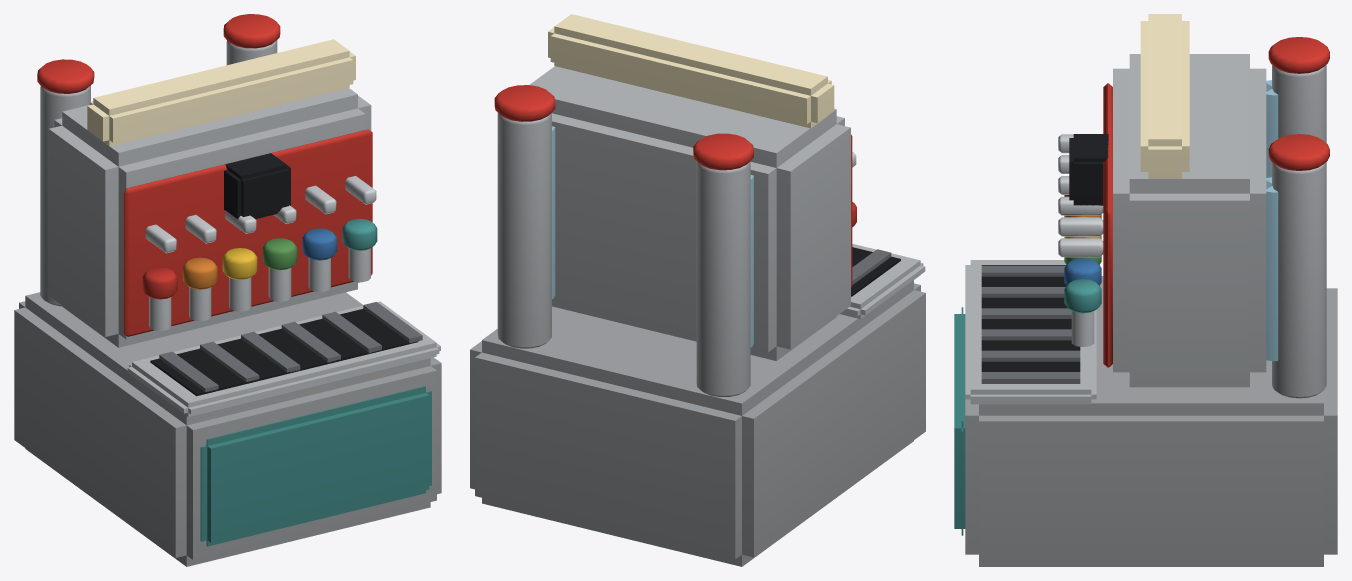
Rendered from SM_SodaFountain_01.glb.
3 renders of one model, left to right at view 1: azimuth 30°, elevation 25°; view 2: azimuth 150°, elevation 25°; view 3: azimuth 270°, elevation 25°, orthographic. The views are drawn at different scales.
Visible parts, largest first — view 1: SM_SodaFountain_01; view 2: SM_SodaFountain_01; view 3: SM_SodaFountain_01.
Boxes of the visible parts, x1,y1,x2,y2 form: SM_SodaFountain_01: (14,14,441,566); SM_SodaFountain_01: (470,14,925,566); SM_SodaFountain_01: (954,14,1337,566).
Bounding box in the file's own units: 0.6 × 0.86 × 0.7.
1 material, 1 textured.
